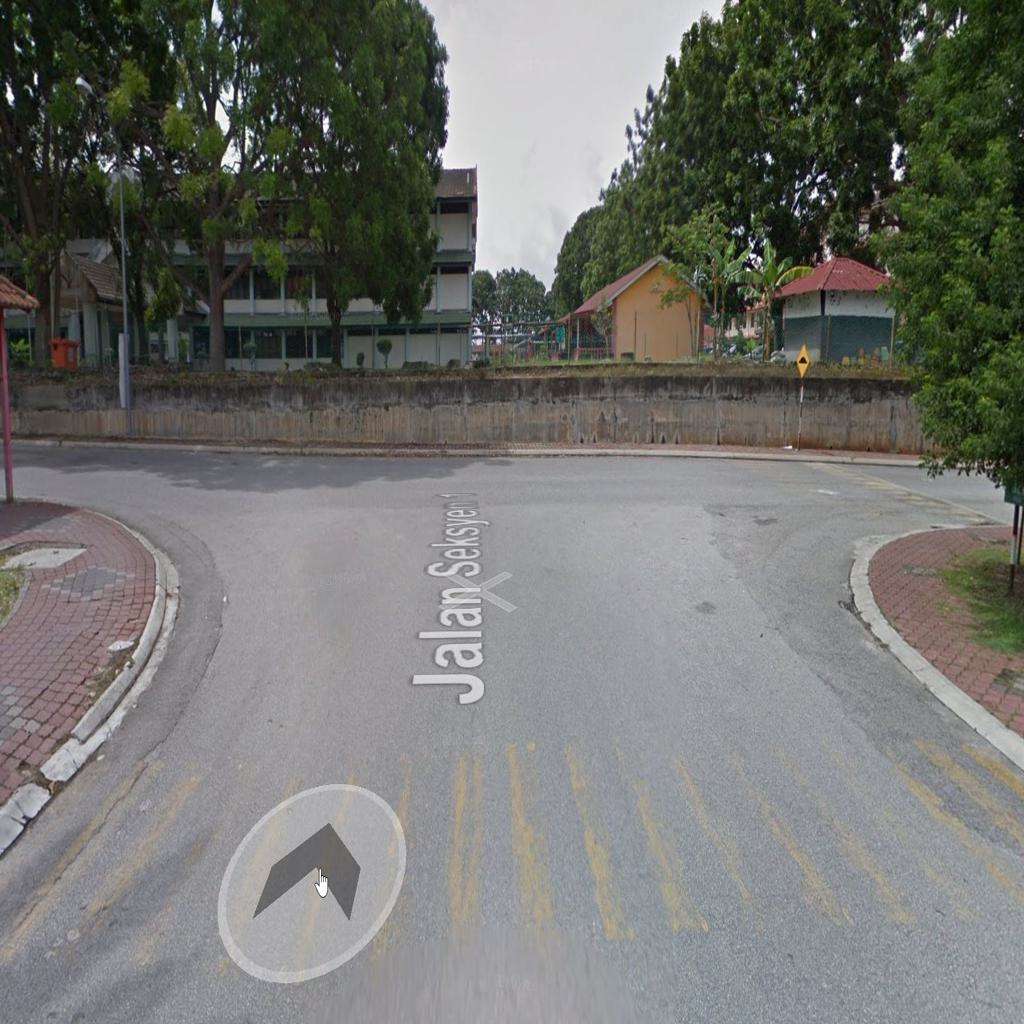Junction: (10, 400, 205, 565), (789, 419, 1008, 563)
